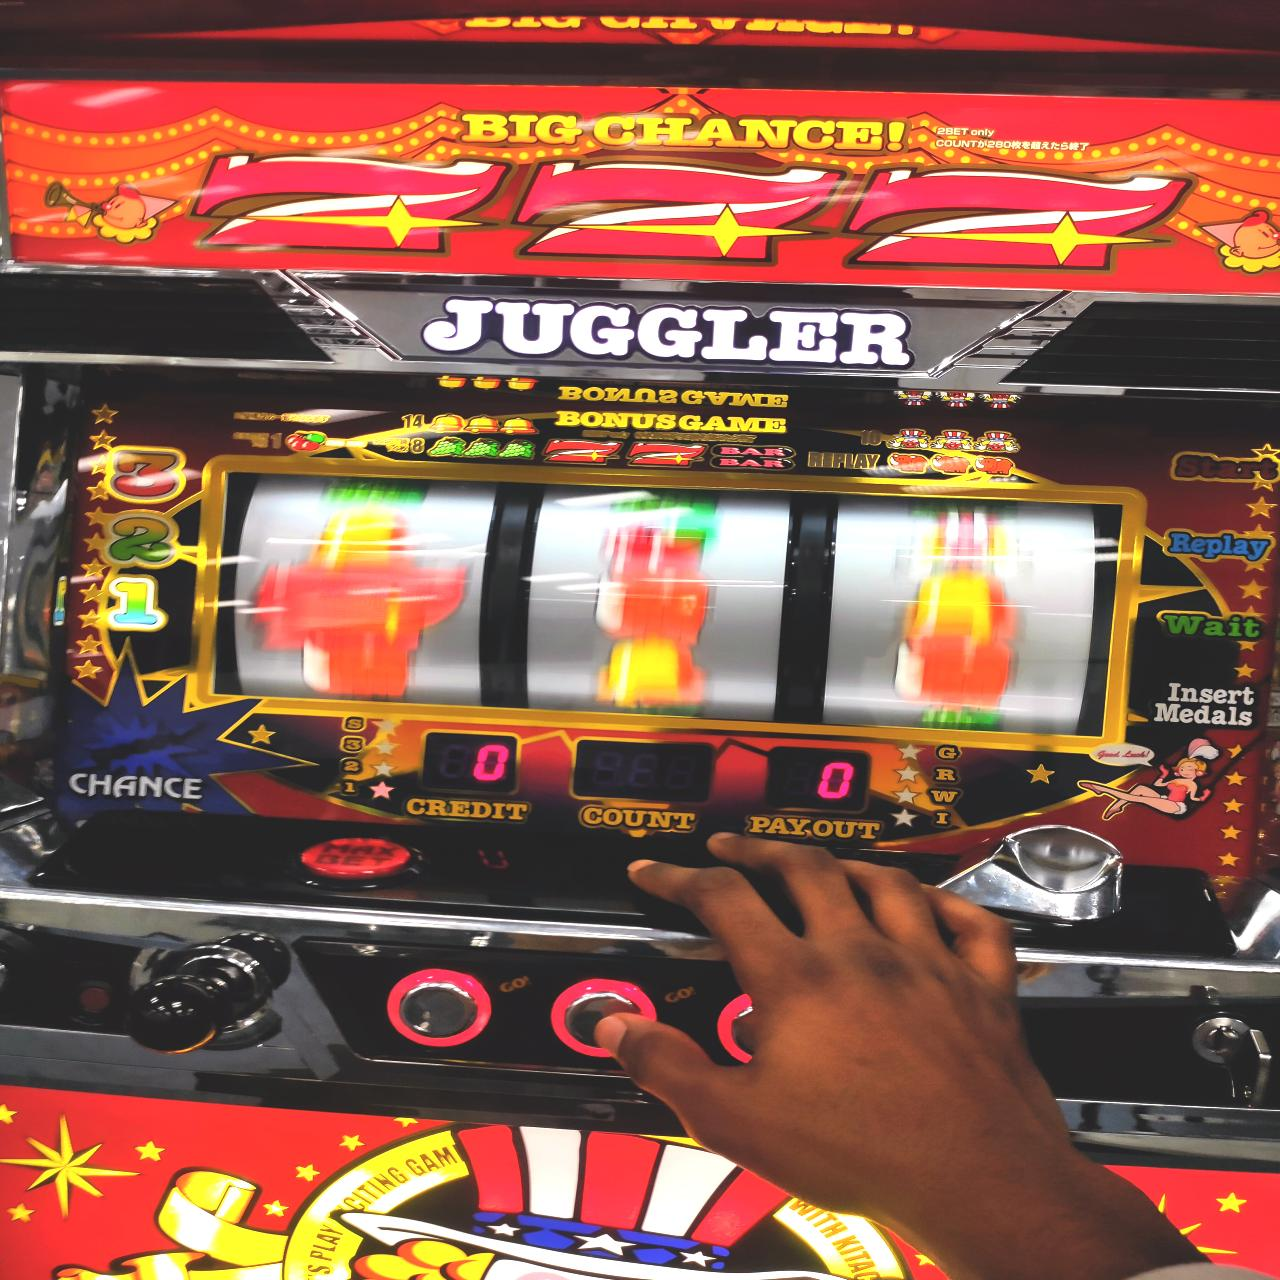rhino: (218, 468, 1124, 741)
